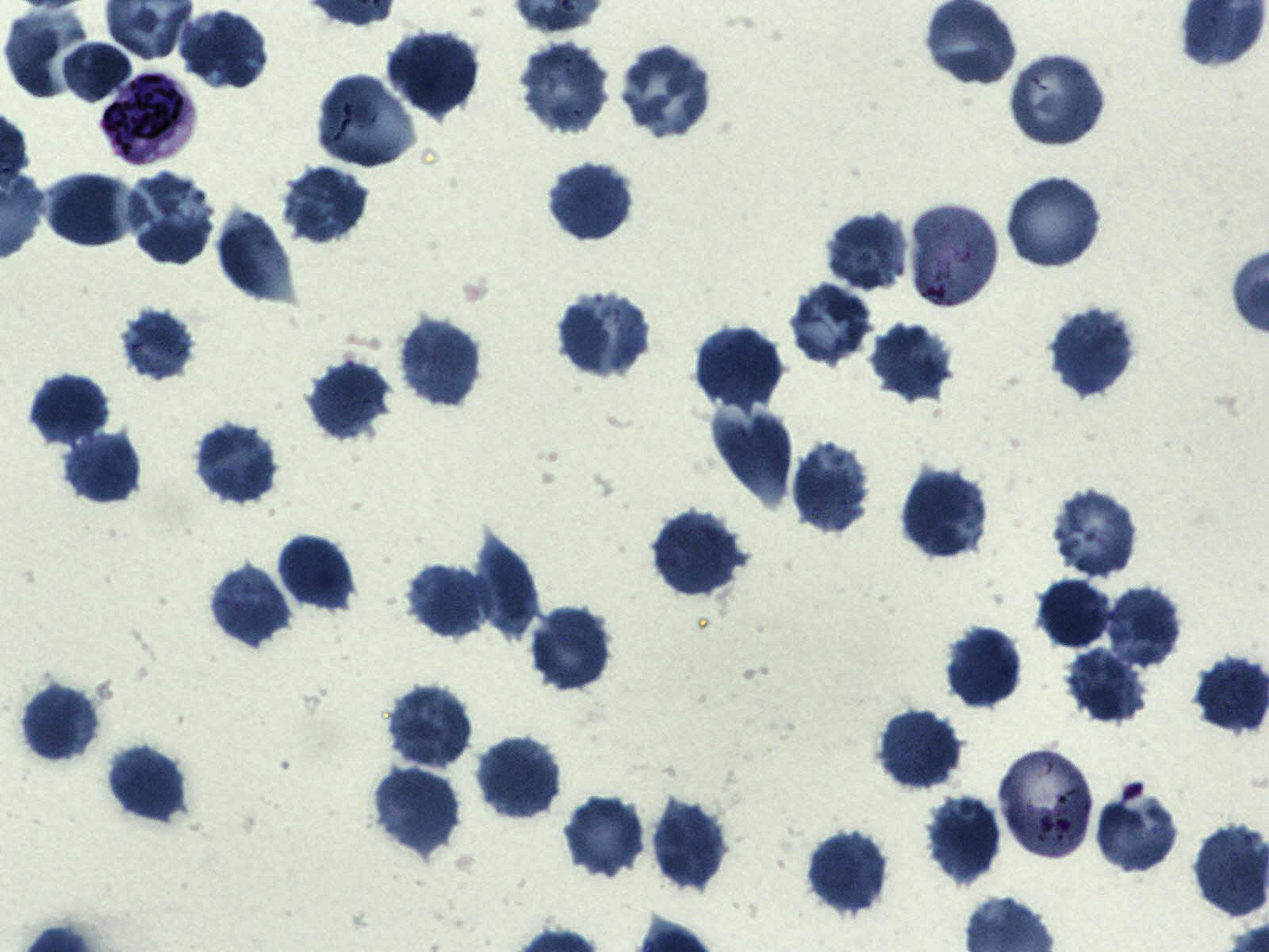Infected: (1000, 745, 1095, 859), (910, 202, 999, 310), (100, 69, 196, 164)
Uninfected: (314, 75, 416, 171), (1008, 53, 1106, 148), (1007, 175, 1102, 271), (618, 44, 712, 136), (711, 406, 791, 510), (518, 40, 608, 132), (389, 30, 478, 122), (126, 171, 213, 265), (43, 173, 157, 244), (1051, 488, 1140, 578), (6, 6, 90, 99), (216, 213, 296, 305), (374, 766, 459, 851), (654, 512, 741, 595), (903, 471, 986, 557), (788, 283, 872, 367), (563, 292, 650, 372), (698, 325, 781, 408), (472, 535, 535, 644), (1096, 791, 1179, 873), (389, 688, 473, 769), (792, 445, 870, 532), (927, 796, 1002, 885), (651, 802, 727, 889), (401, 321, 480, 404), (1056, 308, 1133, 393), (180, 13, 265, 90), (565, 795, 644, 877), (408, 562, 489, 641), (826, 213, 908, 291), (880, 710, 960, 789), (479, 739, 559, 818), (871, 321, 949, 402), (811, 830, 888, 912), (533, 608, 610, 690), (210, 566, 289, 645), (311, 360, 389, 440), (107, 744, 186, 822), (196, 424, 276, 501), (946, 627, 1022, 708), (551, 164, 631, 240), (29, 371, 109, 447), (285, 169, 366, 243), (1066, 650, 1147, 724), (22, 685, 98, 762), (1109, 589, 1182, 668), (64, 430, 140, 505), (281, 536, 355, 613), (1041, 577, 1113, 653), (119, 308, 192, 382), (59, 40, 129, 106)
